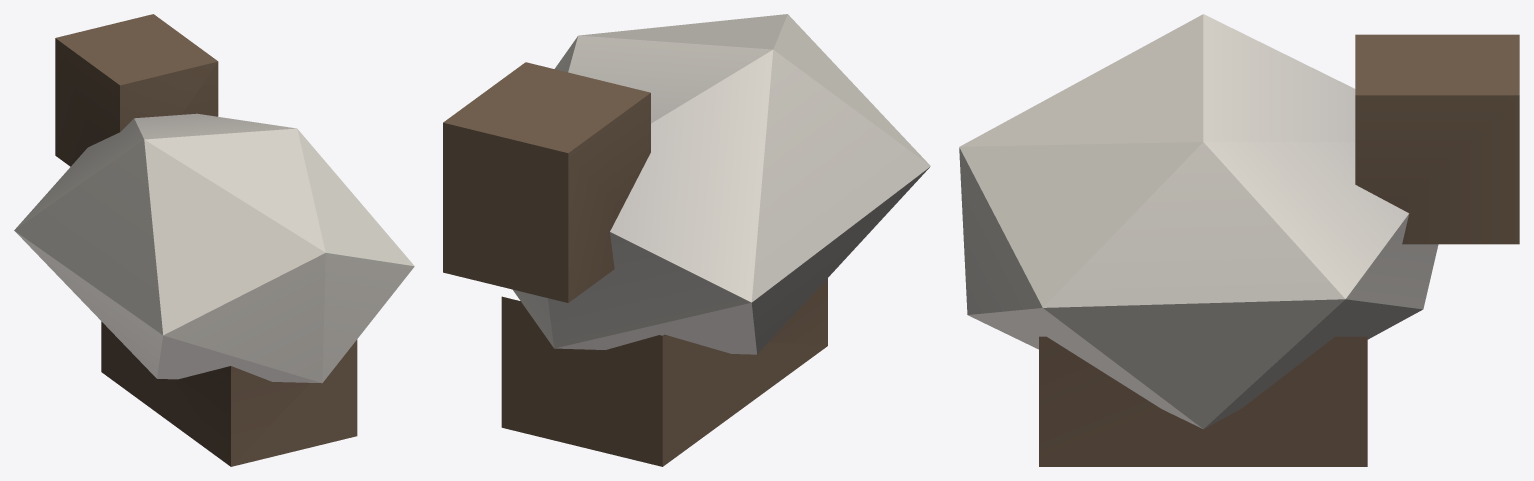
Rendered from life_sheep.glb.
3 renders of one model, left to right at view 1: azimuth 30°, elevation 25°; view 2: azimuth 150°, elevation 25°; view 3: azimuth 270°, elevation 25°, orthographic. The views are drawn at different scales.
Parts seen in each view (by area): view 1: life_sheep; view 2: life_sheep; view 3: life_sheep.
Boxes of the visible parts, left/top/right/bottom form: life_sheep: left=14, top=14, right=414, bottom=466; life_sheep: left=443, top=14, right=930, bottom=466; life_sheep: left=959, top=14, right=1519, bottom=466.
Bounding box in the file's own units: 0.1878 × 0.195 × 0.2729.
